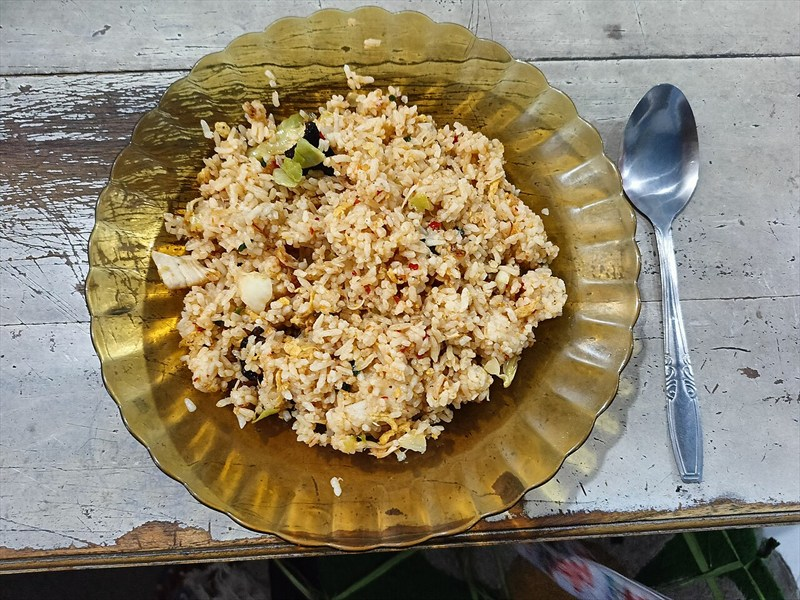Nasi Goreng: (127, 74, 578, 526)
